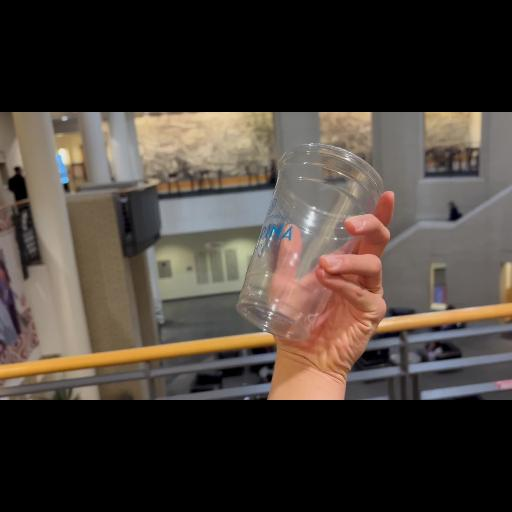lp_plastic_cup: (236, 146, 386, 342)
